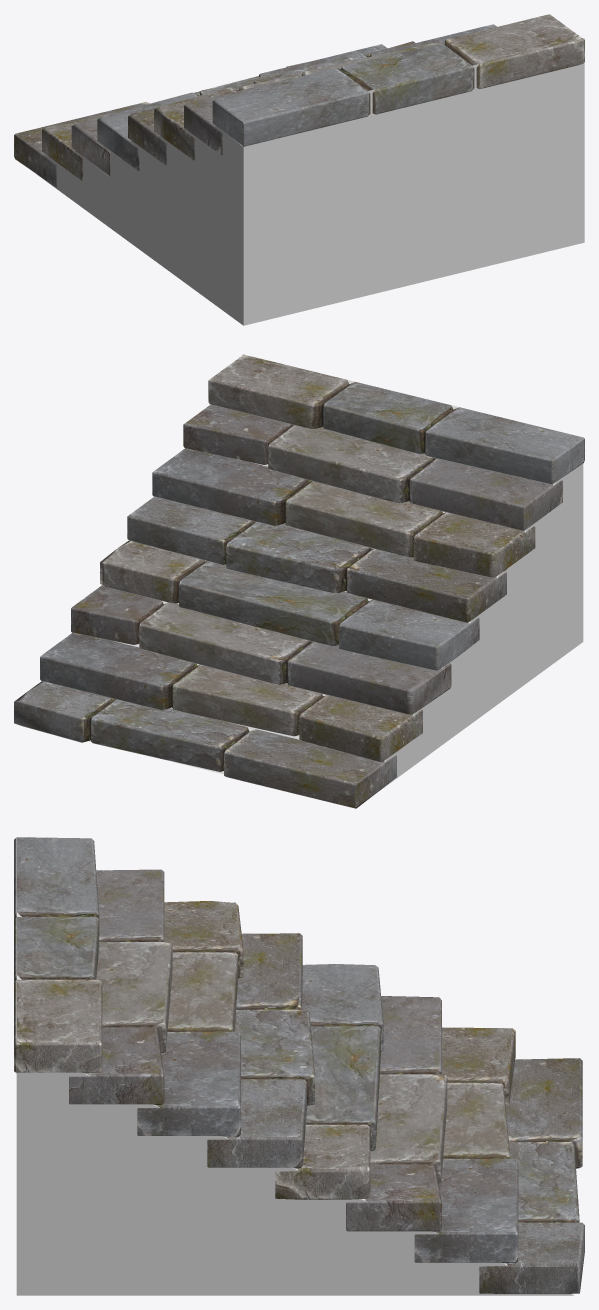
3 renders of one model, top to bottom at view 1: azimuth 30°, elevation 25°; view 2: azimuth 150°, elevation 25°; view 3: azimuth 270°, elevation 25°, orthographic. The views are drawn at different scales.
Visible parts, largest first — view 1: SM_DR_Steps_4x2_01_v4_LOD0; view 2: SM_DR_Steps_4x2_01_v4_LOD0; view 3: SM_DR_Steps_4x2_01_v4_LOD0.
Part boxes in pixels (x1,y1,x2,y2): SM_DR_Steps_4x2_01_v4_LOD0: (14,14,584,325); SM_DR_Steps_4x2_01_v4_LOD0: (14,354,584,808); SM_DR_Steps_4x2_01_v4_LOD0: (14,837,584,1295).
Bounding box in the file's own units: 3.51 × 2 × 4.1.
2 materials, 1 textured.
